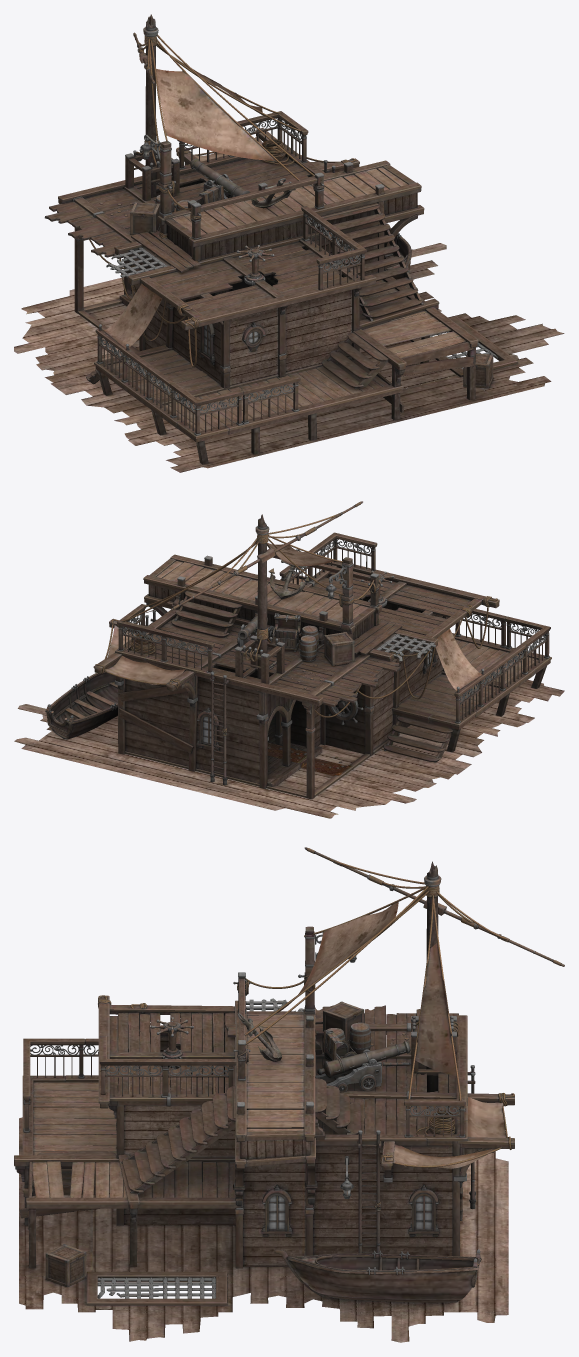
3 renders of one model, top to bottom at view 1: azimuth 30°, elevation 25°; view 2: azimuth 150°, elevation 25°; view 3: azimuth 270°, elevation 25°, orthographic. The views are drawn at different scales.
Parts seen in each view (by area): view 1: Object1271_Object1271_mtl_0, Object1266_Object1266_mtl_0, Object1270_Object1270_mtl_0, Object1267_Object1267_mtl_0, Object1269_Object1269_mtl_0, Object1268_Object1268_mtl_0, Object1264_Object1264_mtl_0, Object1265_Object1265_mtl_0; view 2: Object1271_Object1271_mtl_0, Object1269_Object1269_mtl_0, Object1268_Object1268_mtl_0, Object1266_Object1266_mtl_0, Object1267_Object1267_mtl_0, Object1265_Object1265_mtl_0, Object1264_Object1264_mtl_0, Object1270_Object1270_mtl_0; view 3: Object1271_Object1271_mtl_0, Object1268_Object1268_mtl_0, Object1269_Object1269_mtl_0, Object1267_Object1267_mtl_0, Object1265_Object1265_mtl_0, Object1266_Object1266_mtl_0, Object1270_Object1270_mtl_0, Object1264_Object1264_mtl_0.
Boxes of the visible parts, <box> form: Object1271_Object1271_mtl_0: <box>86,26,517,464</box>; Object1266_Object1266_mtl_0: <box>44,155,474,412</box>; Object1270_Object1270_mtl_0: <box>109,204,551,472</box>; Object1267_Object1267_mtl_0: <box>58,128,498,442</box>; Object1269_Object1269_mtl_0: <box>14,176,564,445</box>; Object1268_Object1268_mtl_0: <box>108,150,384,386</box>; Object1264_Object1264_mtl_0: <box>89,14,493,388</box>; Object1265_Object1265_mtl_0: <box>68,35,411,365</box>; Object1271_Object1271_mtl_0: <box>105,501,550,762</box>; Object1269_Object1269_mtl_0: <box>26,584,534,818</box>; Object1268_Object1268_mtl_0: <box>125,549,442,783</box>; Object1266_Object1266_mtl_0: <box>108,554,470,753</box>; Object1267_Object1267_mtl_0: <box>93,554,551,799</box>; Object1265_Object1265_mtl_0: <box>45,534,437,785</box>; Object1264_Object1264_mtl_0: <box>95,501,497,775</box>; Object1270_Object1270_mtl_0: <box>14,578,564,786</box>; Object1271_Object1271_mtl_0: <box>15,847,564,1309</box>; Object1268_Object1268_mtl_0: <box>124,998,456,1266</box>; Object1269_Object1269_mtl_0: <box>19,1059,508,1341</box>; Object1267_Object1267_mtl_0: <box>14,978,514,1298</box>; Object1265_Object1265_mtl_0: <box>168,885,481,1302</box>; Object1266_Object1266_mtl_0: <box>19,1000,493,1230</box>; Object1270_Object1270_mtl_0: <box>19,1037,508,1342</box>; Object1264_Object1264_mtl_0: <box>45,848,561,1287</box>.
Size of the model in its own units: 2.19 by 1.41 by 2.11.
Materials: 8 (8 with a texture image).
